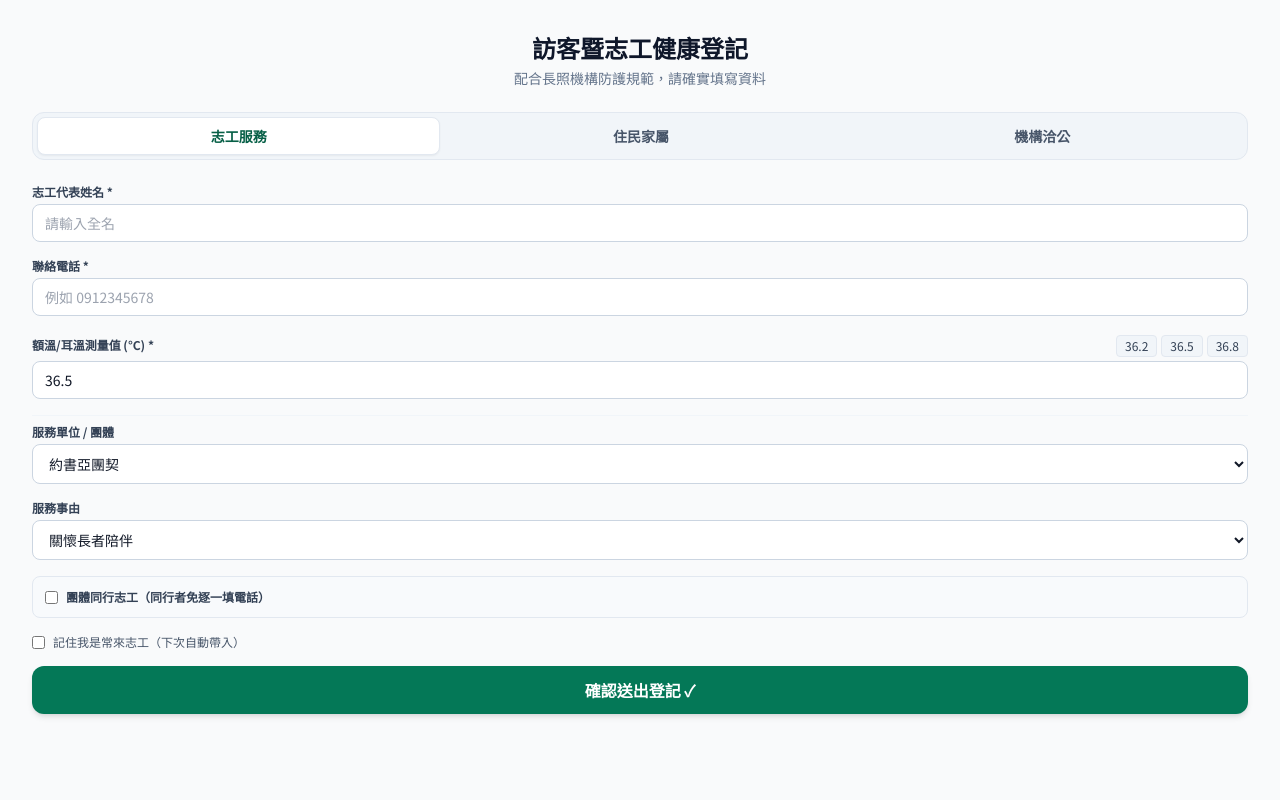
訪客與志工線上登記系統 (Nurse Sandbox Triad) › VisitorPublicKioskForm (訪客公開填寫端) › 臨床防呆：未填體溫或體溫超出範圍應予以阻擋
Type "王志工" into the field with placeholder "請輸入全名".
click(640, 223); type("王志工")  # box [32,204,1248,242]
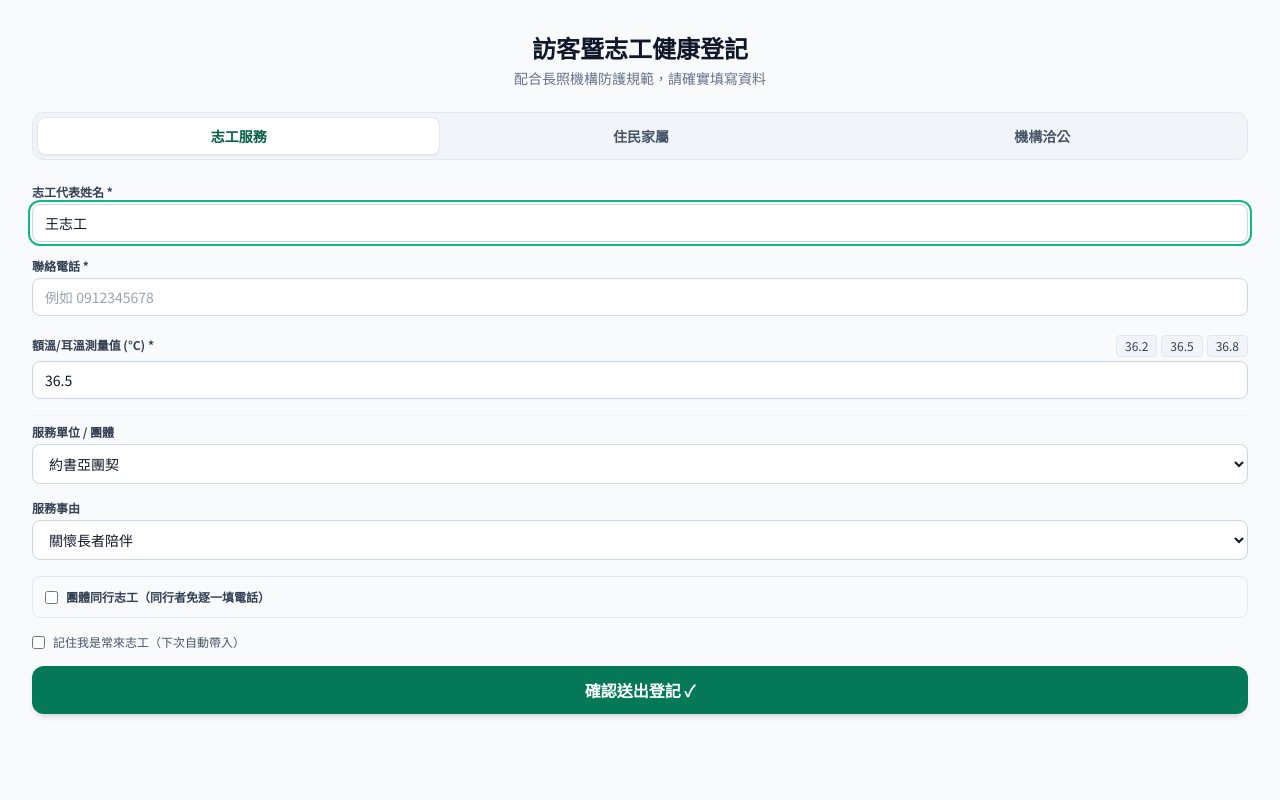
Type "0912345678" into the field with placeholder "例如 0912345678".
click(640, 297); type("0912345678")  # box [32,278,1248,316]
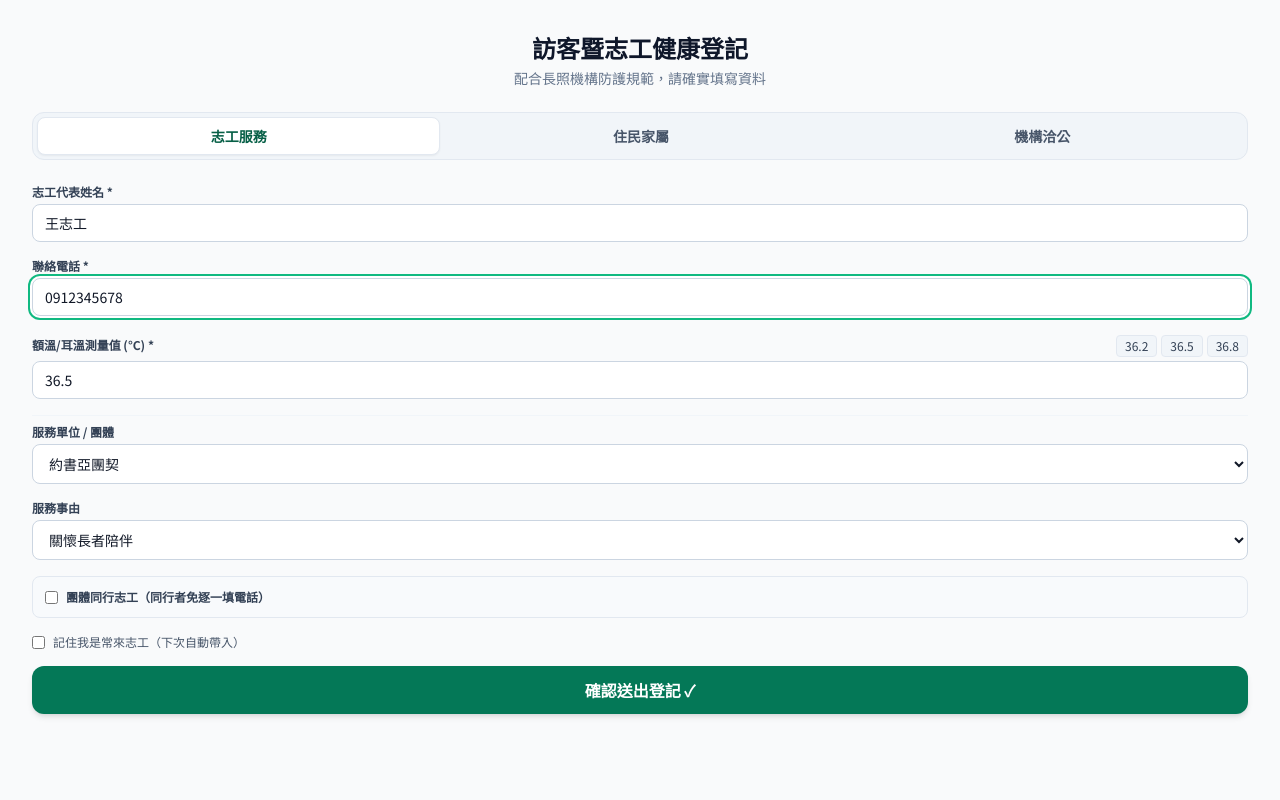
// 輸入異常體溫 (45.0°C 超出臨床正常 34~42 範圍)
Replace the text in the number field showing "36.5" with "45.0" at (640, 380), box [32,361,1248,399]
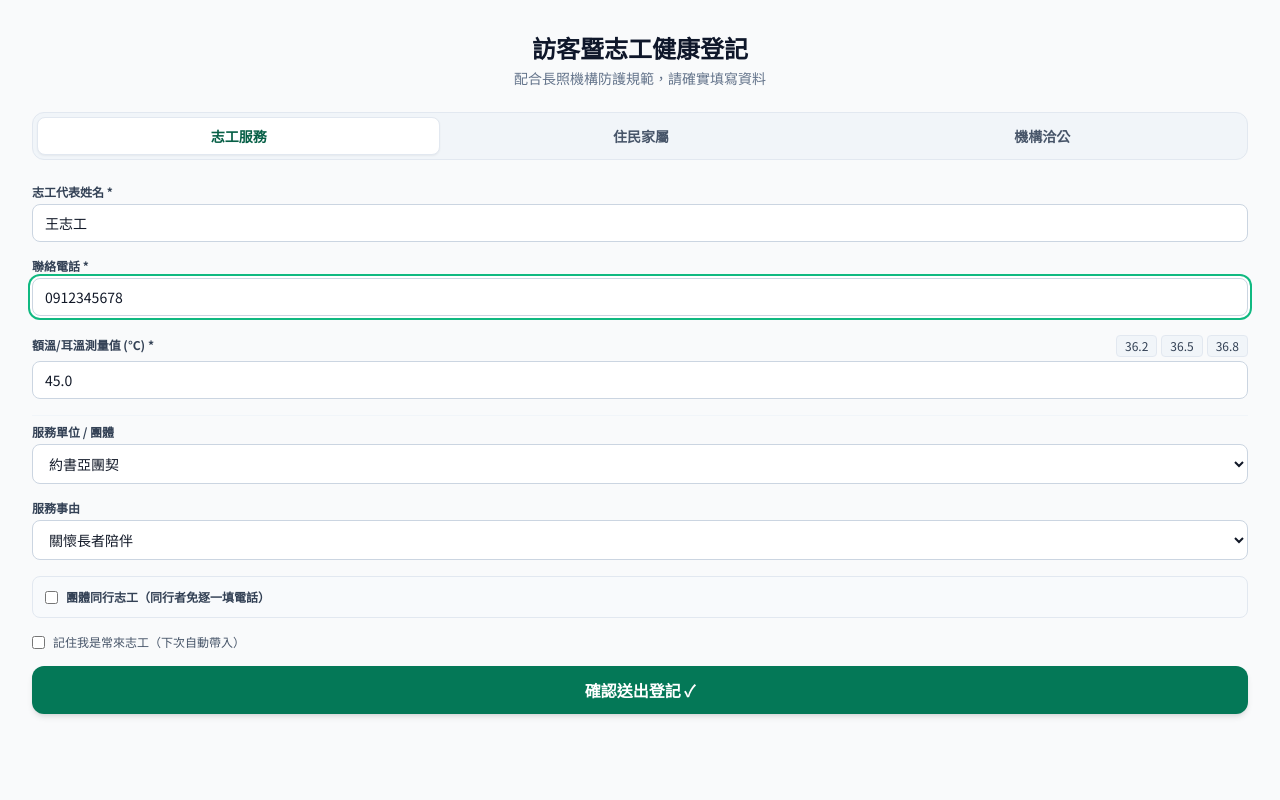
Click the button "確認送出登記 ✓".
click(640, 690)  # box [32,666,1248,714]
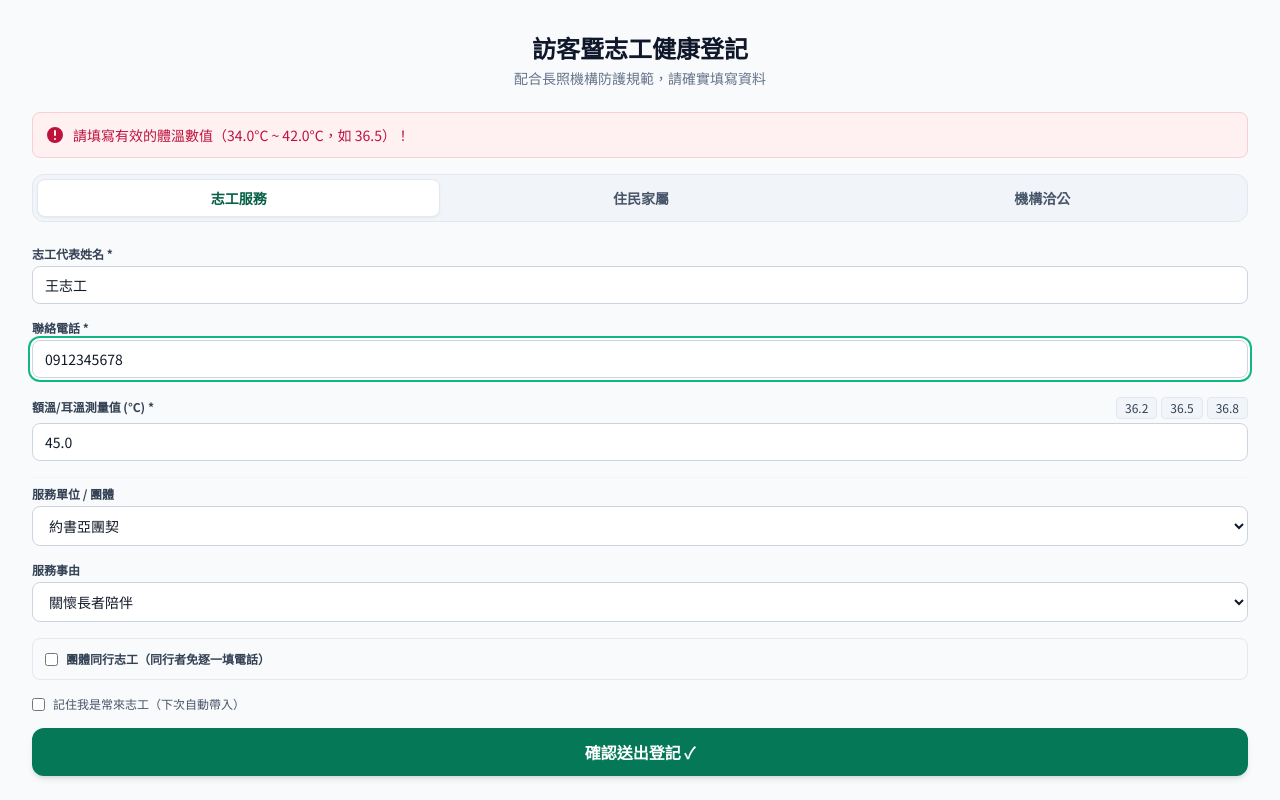
expect the text "請填寫有效的體溫數值（34.0°C ~ 42.0°C，如 36.5）！" is shown: met, box [32,112,1248,158]
